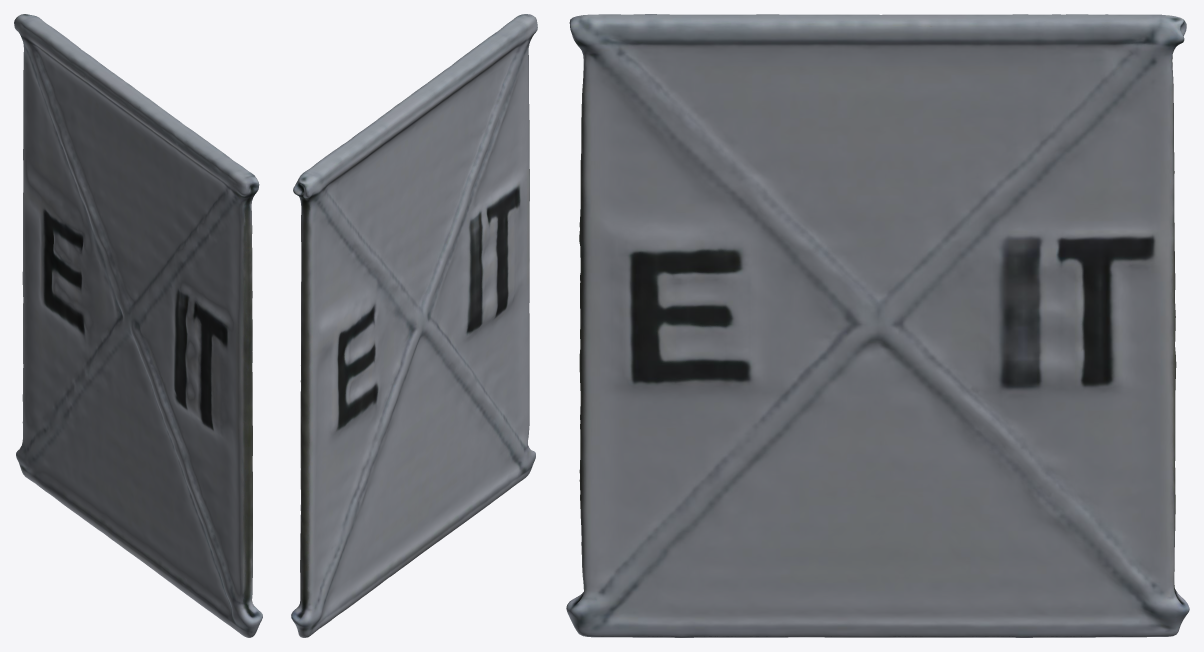
The model's file is 86573a5a44da_exit__3d_asset_0_gl.fbx.
3 views of the same model, side by side, from view 1: azimuth 30°, elevation 25°; view 2: azimuth 150°, elevation 25°; view 3: azimuth 270°, elevation 25° (orthographic). The views are drawn at different scales.
Visible parts, largest first — view 1: high_poly; view 2: high_poly; view 3: high_poly.
Boxes of the visible parts, x1,y1,x2,y2 form: high_poly: (14, 14, 262, 637); high_poly: (291, 14, 537, 637); high_poly: (566, 14, 1189, 637).
Size of the model in its own units: 4.98 by 100 by 91.45.
